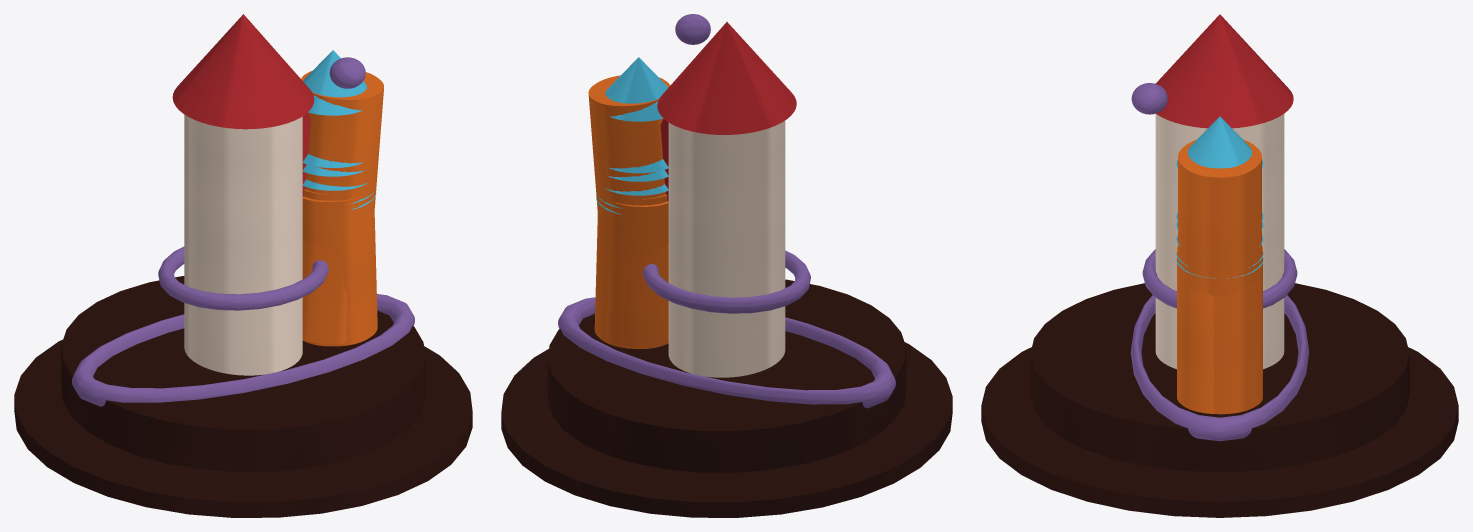
The model's file is 0661_史前人类图鉴_打石取火.glb.
The picture shows the model from 3 angles, left to right: view 1: azimuth 30°, elevation 25°; view 2: azimuth 150°, elevation 25°; view 3: azimuth 270°, elevation 25°; orthographic projection. The views are drawn at different scales.
Parts seen in each view (by area): view 1: card_0661; view 2: card_0661; view 3: card_0661.
Boxes of the visible parts, x1=… form: card_0661: x1=14, y1=14, x2=472, y2=517; card_0661: x1=501, y1=14, x2=952, y2=517; card_0661: x1=981, y1=14, x2=1458, y2=517.
Bounding box in the file's own units: 1.01 × 1 × 1.06.
